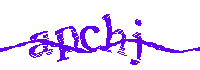a: (27, 30, 51, 58)
c: (80, 23, 102, 55)
h: (102, 13, 128, 56)
j: (131, 17, 145, 67)
p: (54, 25, 79, 63)
